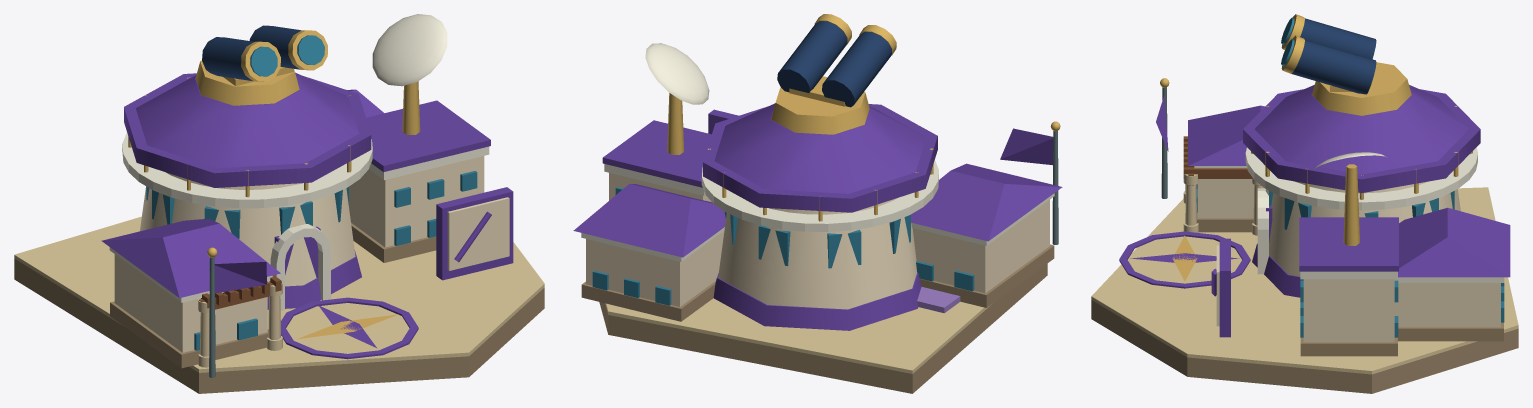
Rendered from scout-center-lv4.glb.
3 renders of one model, left to right at view 1: azimuth 30°, elevation 25°; view 2: azimuth 150°, elevation 25°; view 3: azimuth 270°, elevation 25°, orthographic. The views are drawn at different scales.
Visible parts, largest first — view 1: foundation_sand, faceted_roof_violet, foundation_stoneDark, octagonal_office_cream, observation_eave_violet, archive_wing_roof_violet, communications_cream, archive_wing_cream, communications_roof_violet, observation_balcony_white, dish_white, map_board_cream (+22 smaller); view 2: octagonal_office_cream, faceted_roof_violet, foundation_sand, foundation_stoneDark, analysis_wing_roof_violet, archive_wing_roof_violet, observation_eave_violet, archive_wing_cream, roof_binoculars_naval, analysis_wing_cream, office_plinth_violet, observation_balcony_white (+18 smaller); view 3: foundation_sand, faceted_roof_violet, foundation_stoneDark, analysis_wing_roof_violet, communications_cream, observation_eave_violet, communications_roof_violet, analysis_wing_cream, roof_binoculars_naval, observation_balcony_white, octagonal_office_cream, archive_wing_roof_violet (+20 smaller).
Boxes of the visible parts, x1,y1,x2,y2 form: foundation_sand: (14, 216, 544, 372); faceted_roof_violet: (136, 72, 359, 168); foundation_stoneDark: (14, 258, 544, 393); octagonal_office_cream: (140, 172, 355, 286); observation_eave_violet: (124, 73, 371, 187); archive_wing_roof_violet: (101, 219, 280, 297); communications_cream: (349, 156, 484, 247); archive_wing_cream: (114, 254, 267, 352); communications_roof_violet: (366, 100, 490, 172); observation_balcony_white: (122, 132, 372, 208); dish_white: (372, 14, 447, 86); map_board_cream: (447, 197, 509, 270); octagonal_office_cream: (718, 198, 917, 309); faceted_roof_violet: (714, 103, 926, 193); foundation_sand: (605, 298, 991, 373); foundation_stoneDark: (599, 263, 1047, 393); analysis_wing_roof_violet: (573, 184, 725, 257); archive_wing_roof_violet: (911, 163, 1062, 241); observation_eave_violet: (703, 104, 937, 212); archive_wing_cream: (912, 200, 1049, 293); roof_binoculars_naval: (777, 21, 891, 107); analysis_wing_cream: (586, 231, 724, 306); office_plinth_violet: (713, 273, 921, 330); observation_balcony_white: (701, 160, 938, 231); foundation_sand: (1091, 187, 1518, 374); faceted_roof_violet: (1254, 85, 1468, 174); foundation_stoneDark: (1091, 300, 1518, 393); analysis_wing_roof_violet: (1398, 207, 1510, 277); communications_cream: (1303, 279, 1394, 342); observation_eave_violet: (1243, 89, 1480, 192); communications_roof_violet: (1299, 217, 1398, 271); analysis_wing_cream: (1394, 283, 1500, 327); roof_binoculars_naval: (1291, 18, 1376, 94); observation_balcony_white: (1245, 147, 1477, 210); octagonal_office_cream: (1265, 181, 1460, 276); archive_wing_roof_violet: (1188, 105, 1264, 165).
Bounding box in the file's own units: 1 × 0.6559 × 0.9826.
